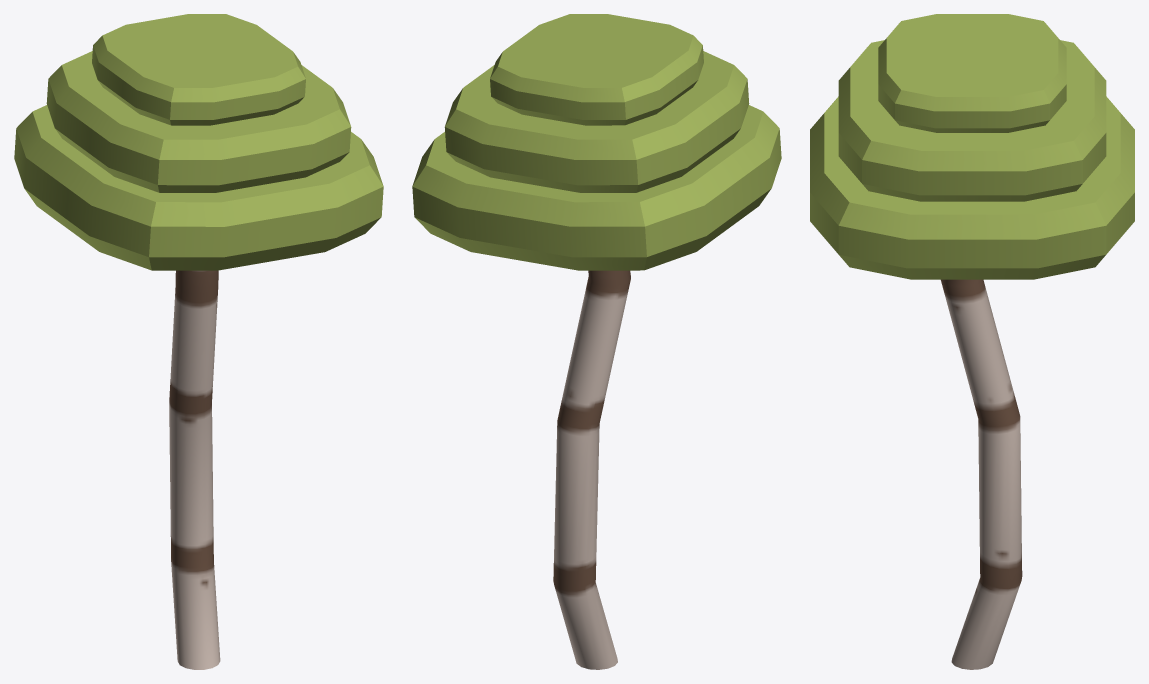
The model's file is FBX_TreeA_02.fbx.
3 renders of one model, left to right at view 1: azimuth 30°, elevation 25°; view 2: azimuth 150°, elevation 25°; view 3: azimuth 270°, elevation 25°, orthographic.
Parts seen in each view (by area): view 1: pCylinder31; view 2: pCylinder31; view 3: pCylinder31.
Part boxes in pixels (x1,y1,x2,y2): pCylinder31: (14, 14, 383, 669); pCylinder31: (412, 14, 781, 669); pCylinder31: (810, 14, 1134, 669).
Size of the model in its own units: 65.93 by 136 by 65.62.
